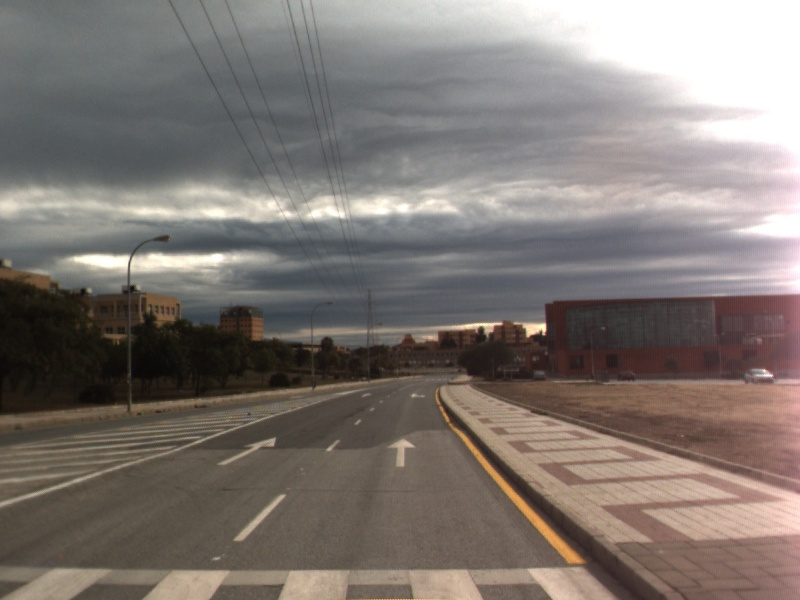STRAIGHT: (215, 435, 278, 467), (385, 436, 419, 469)
